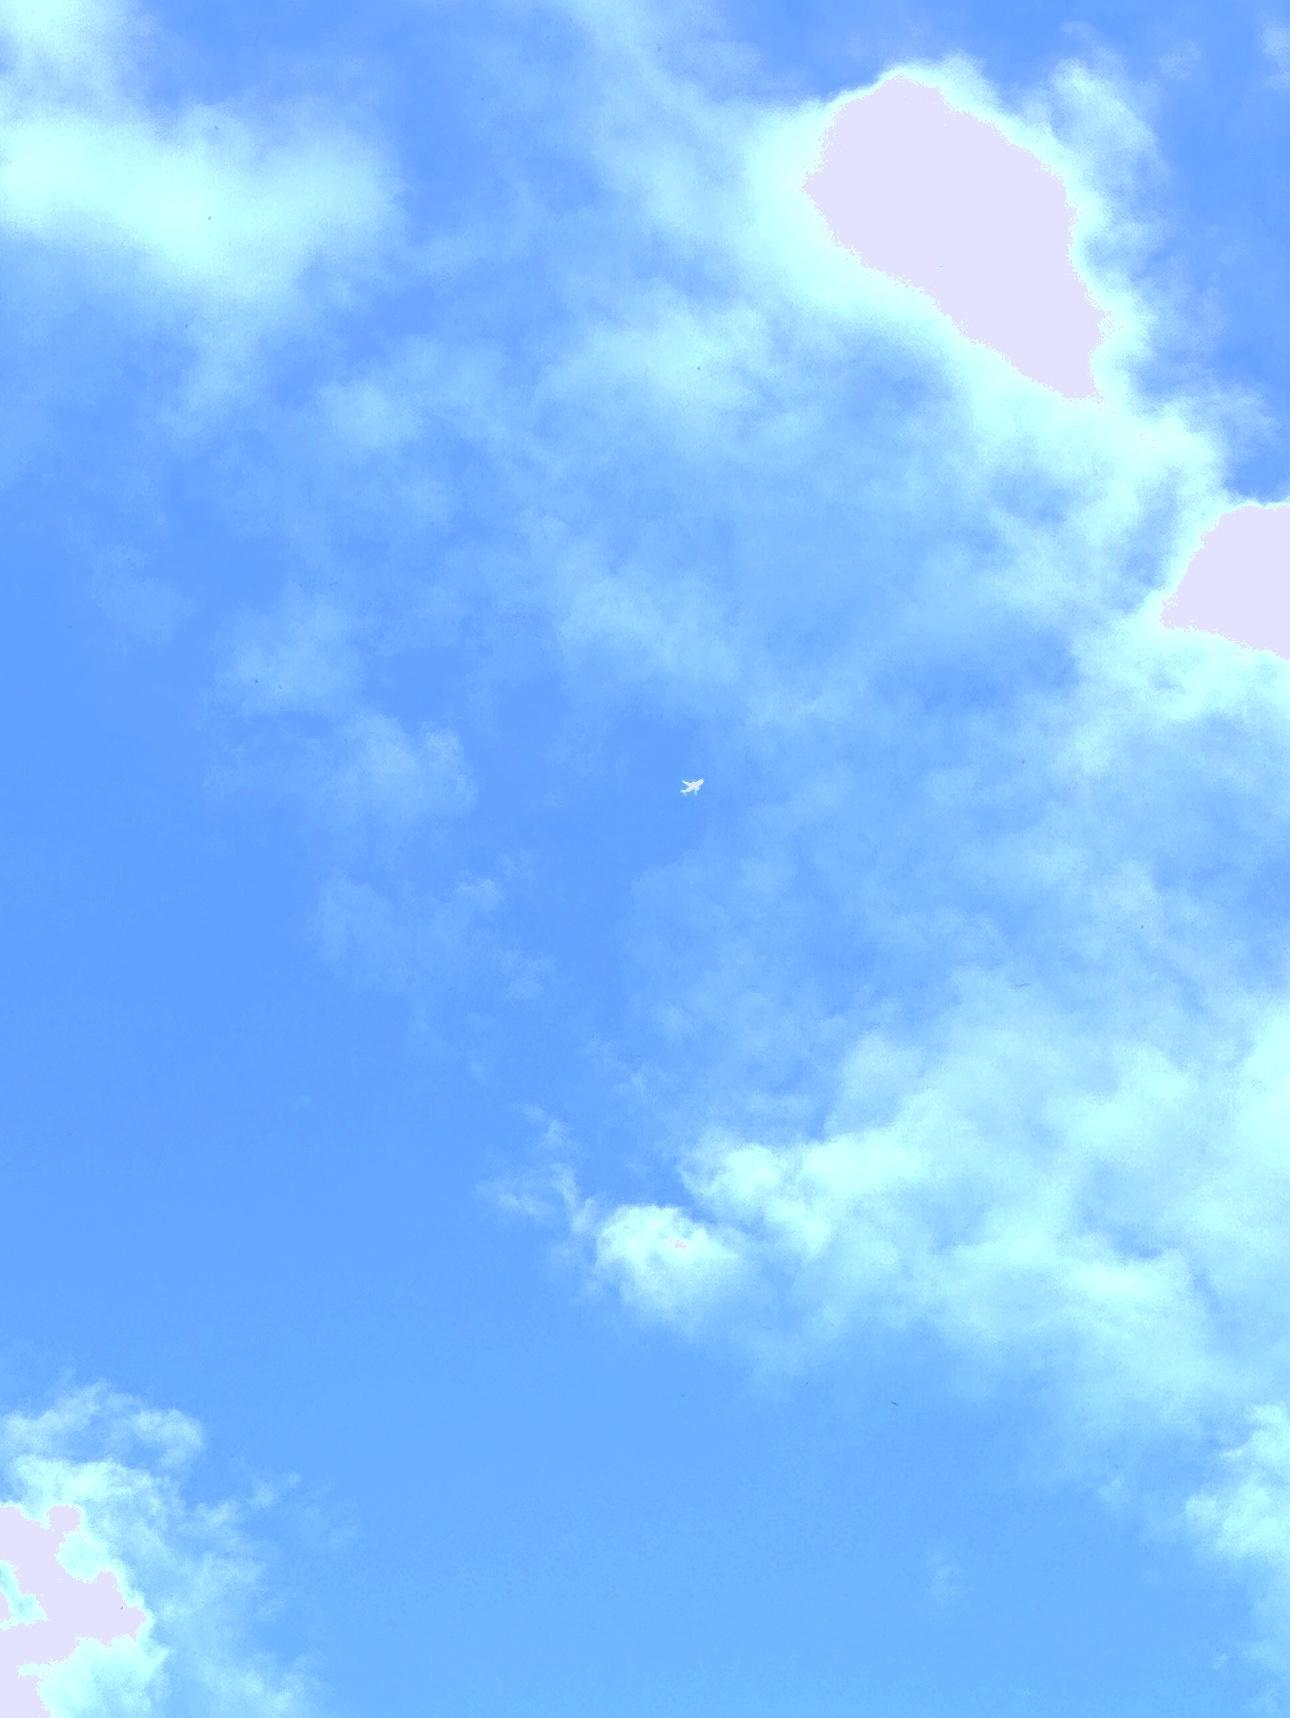Plane: (669, 759, 722, 812)
